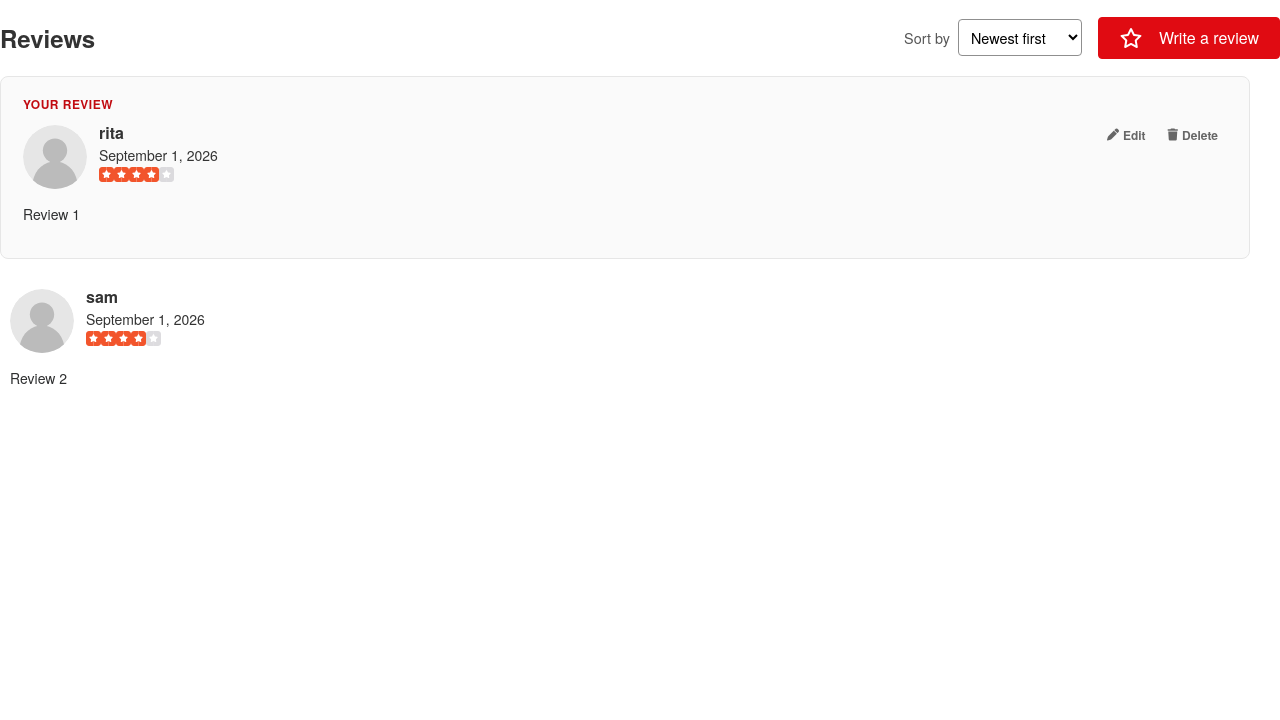
Test: the author's Edit and Delete sit in the review's header, named for what they act on
Check: the number of links named "your review" is 1, box [1107, 126, 1146, 144]
Check: the element named "your review" shows "rita", box [99, 121, 218, 145]
Click the button with aria-label "your review". click: click(1193, 135)
box: [1159, 121, 1227, 149]
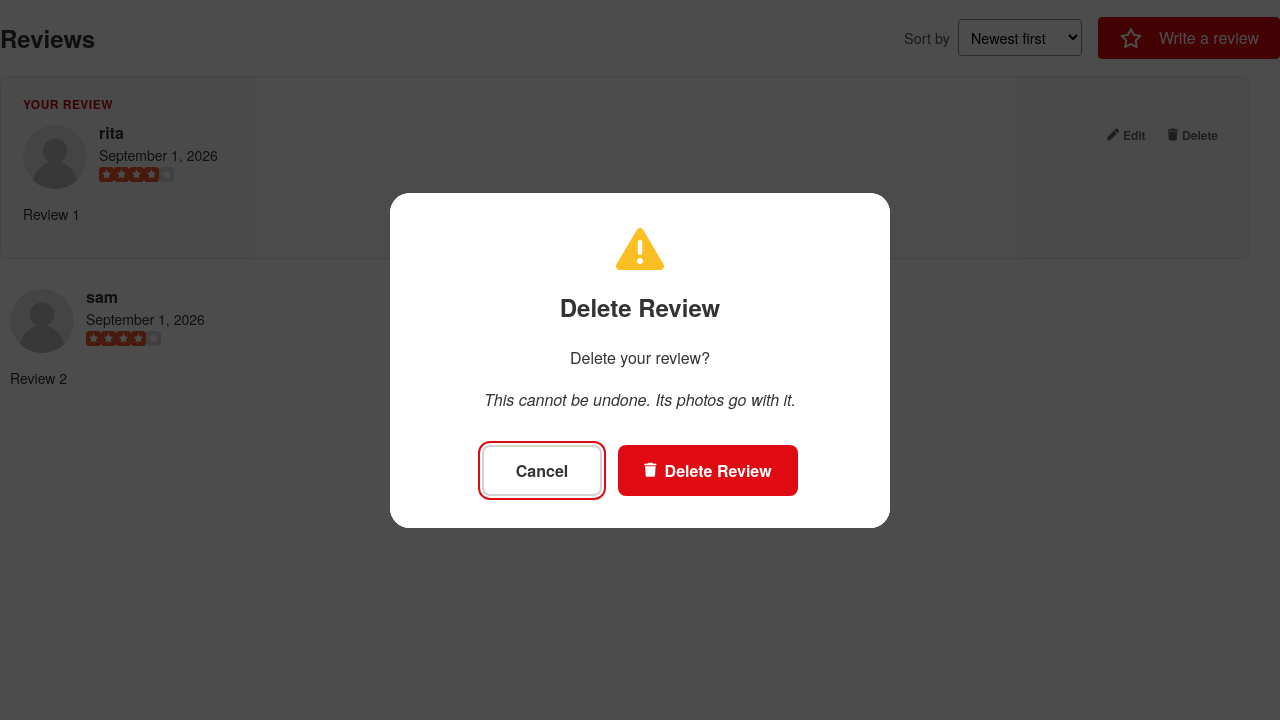
Check: the dialog "Delete Review" is shown, box [390, 192, 890, 528]
